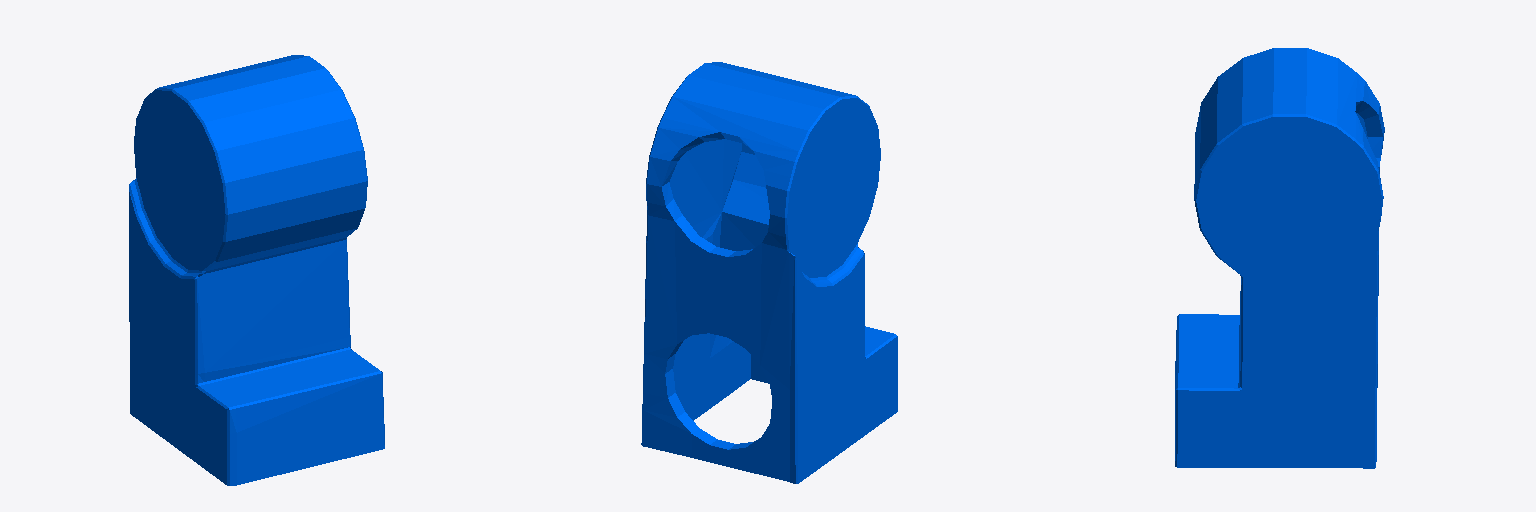
The picture shows the model from 3 angles: view 1: azimuth 30°, elevation 25°; view 2: azimuth 150°, elevation 25°; view 3: azimuth 270°, elevation 25°; orthographic projection.
Parts seen in each view (by area): view 1: jambe-d; view 2: jambe-d; view 3: jambe-d.
Part boxes in pixels (left/top/right/bottom): jambe-d: left=129, top=55, right=384, bottom=485; jambe-d: left=641, top=62, right=897, bottom=483; jambe-d: left=1175, top=48, right=1384, bottom=468.
Size of the model in its own units: 0.5426 by 1.14 by 0.6217.
Materials: 1 (1 with a texture image).